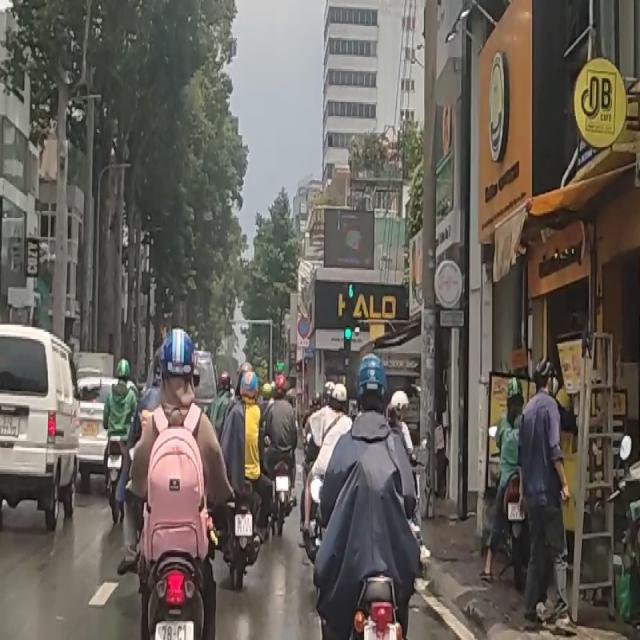Bien bao cam do xe: (297, 316, 311, 338)
